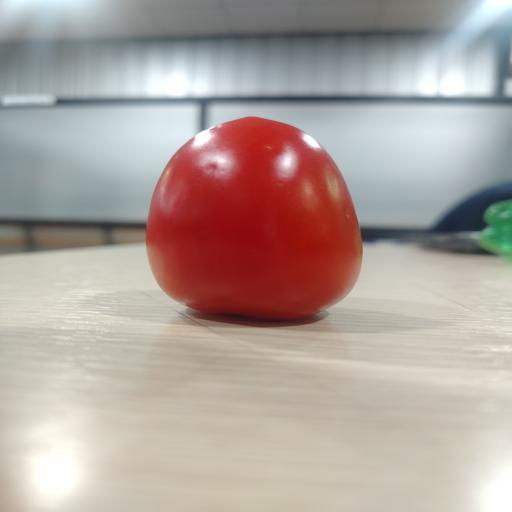ripe: (146, 117, 362, 319)
